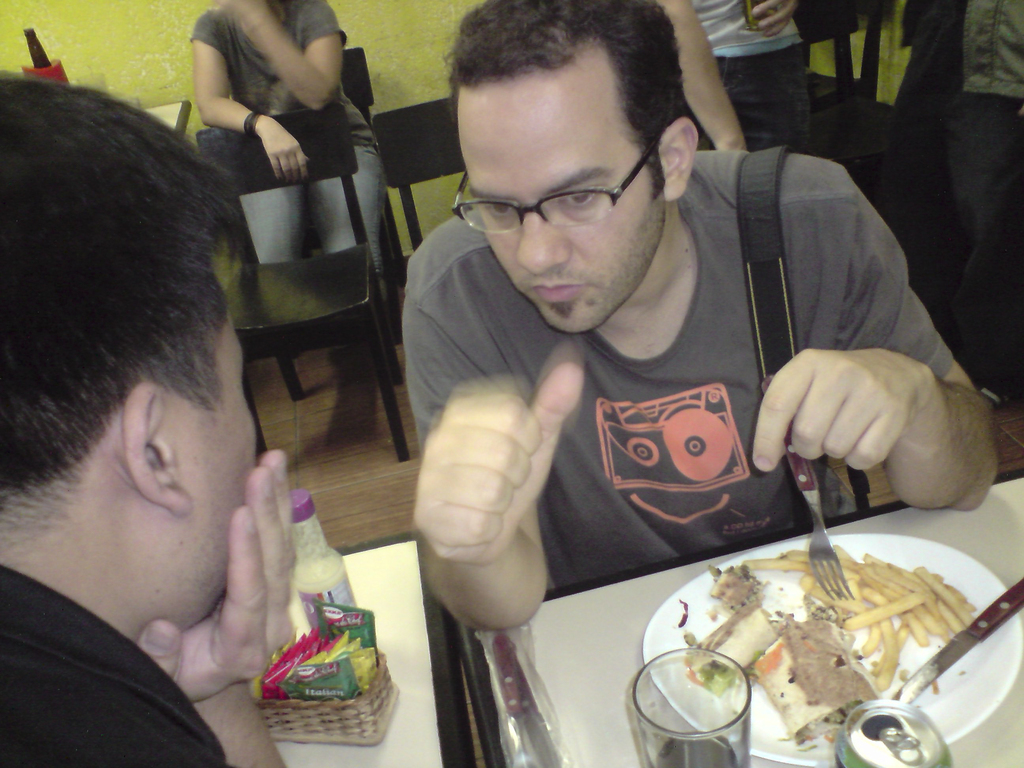French fries: (768, 551, 988, 674)
